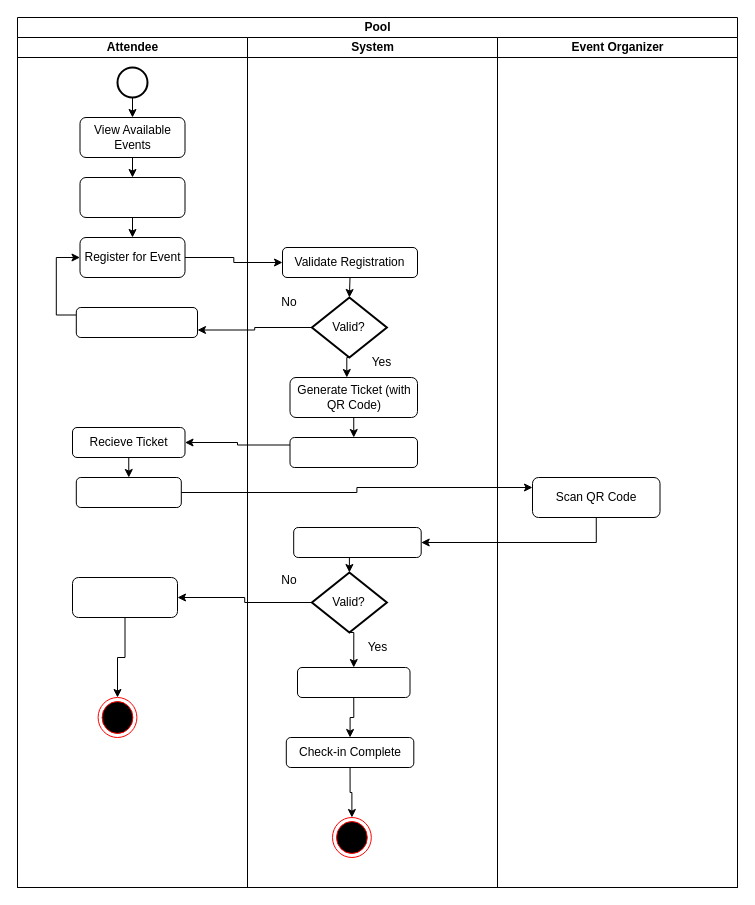
Some shapes in this 755 by 905 pixel diagram are drawn without their labels. Each missing label, with the centre of its shape:
Arrive at Event: pixel 128 492
Record Attendance: pixel 353 682
Reject Ticket (Access Denied): pixel 125 597
Select Event: pixel 132 197
Send Ticket to Attendee: pixel 353 452
Show Error Message: pixel 136 322
Validate Ticket: pixel 357 542
